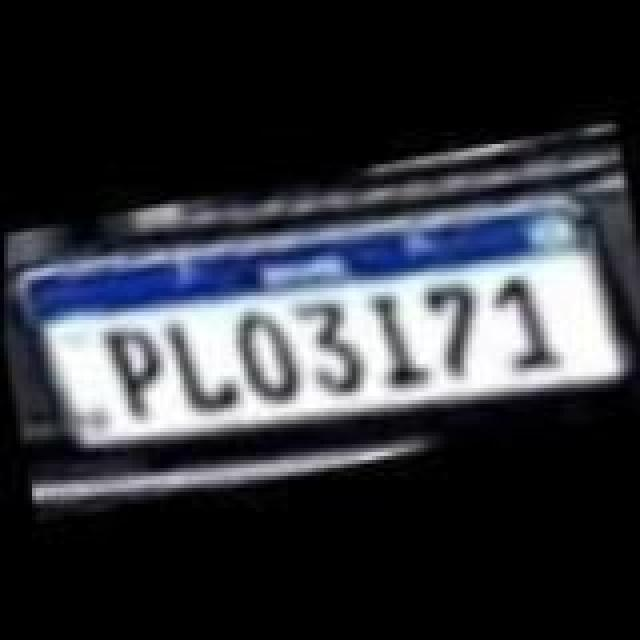1: (476, 254, 568, 374)
3: (280, 284, 372, 400)
7: (408, 270, 492, 390)
I: (350, 274, 438, 398)
L: (156, 302, 244, 422)
O: (222, 292, 306, 404)
P: (94, 314, 178, 426)
